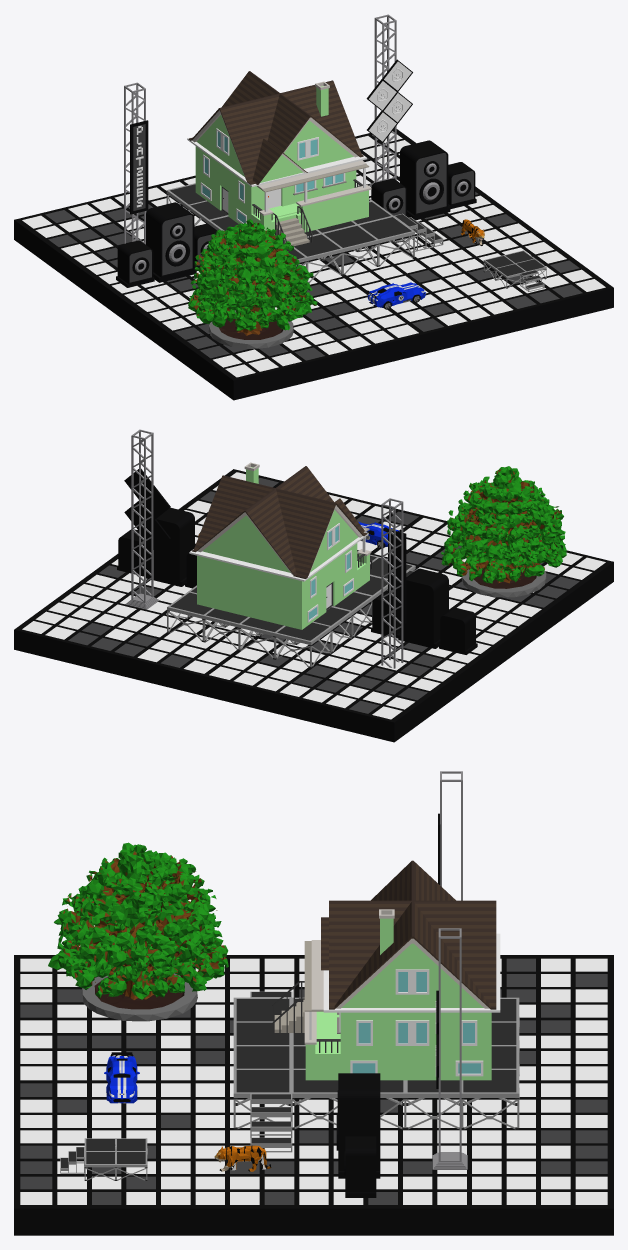
The picture shows the model from 3 angles, top to bottom: view 1: azimuth 30°, elevation 25°; view 2: azimuth 150°, elevation 25°; view 3: azimuth 270°, elevation 25°; orthographic projection. The views are drawn at different scales.
Visible parts, largest first — view 1: Cube.008, Cube.274, OBJRANDOM_CEIBA, VEHICLES_RACING_CAR; view 2: Cube.008, Cube.274, OBJRANDOM_CEIBA, VEHICLES_RACING_CAR; view 3: Cube.008, Cube.274, OBJRANDOM_CEIBA, VEHICLES_RACING_CAR, ANIMAL_TIGRE.
Boxes of the visible parts, left/top/right/bottom form: Cube.008: left=14, top=14, right=613, bottom=400; Cube.274: left=187, top=71, right=371, bottom=246; OBJRANDOM_CEIBA: left=188, top=219, right=317, bottom=348; VEHICLES_RACING_CAR: left=367, top=282, right=425, bottom=309; Cube.008: left=14, top=429, right=613, bottom=742; Cube.274: left=189, top=462, right=372, bottom=629; OBJRANDOM_CEIBA: left=441, top=466, right=566, bottom=597; VEHICLES_RACING_CAR: left=358, top=521, right=400, bottom=548; Cube.008: left=14, top=771, right=613, bottom=1235; Cube.274: left=272, top=860, right=500, bottom=1080; OBJRANDOM_CEIBA: left=48, top=842, right=228, bottom=1021; VEHICLES_RACING_CAR: left=104, top=1052, right=139, bottom=1103; ANIMAL_TIGRE: left=214, top=1145, right=271, bottom=1171.
Size of the model in its own units: 4000 by 2073 by 4000.
41 materials, 1 textured.
